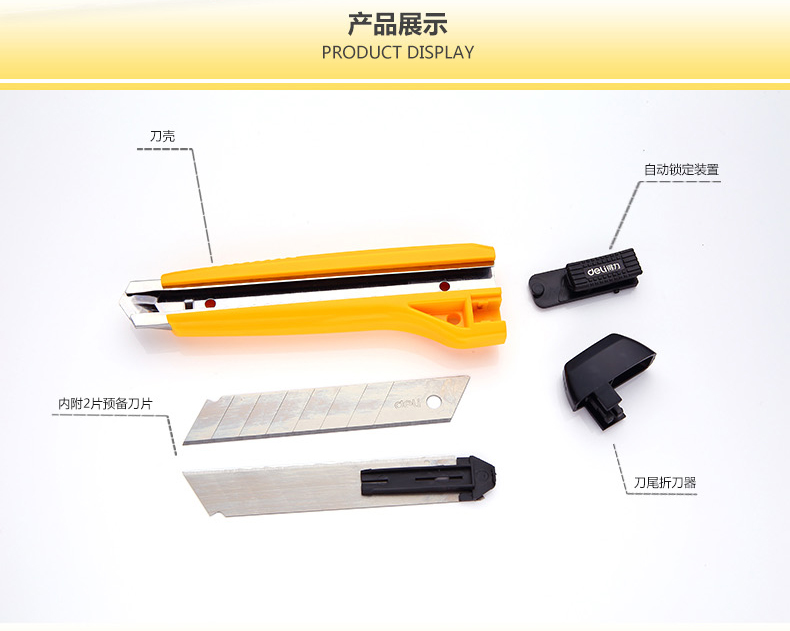cutter: (119, 241, 509, 348), (177, 370, 482, 446), (178, 452, 501, 519)
